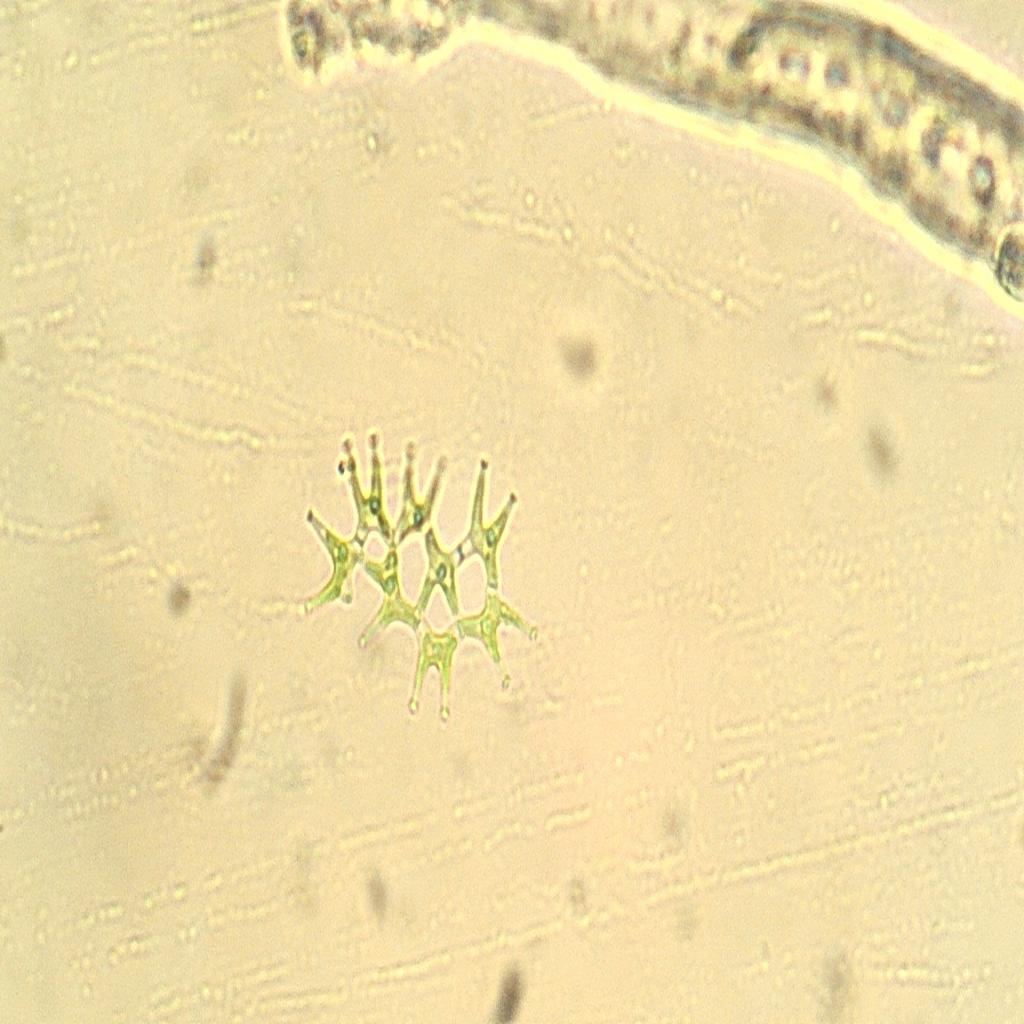Pediastrum_CFI: (279, 412, 563, 745)
